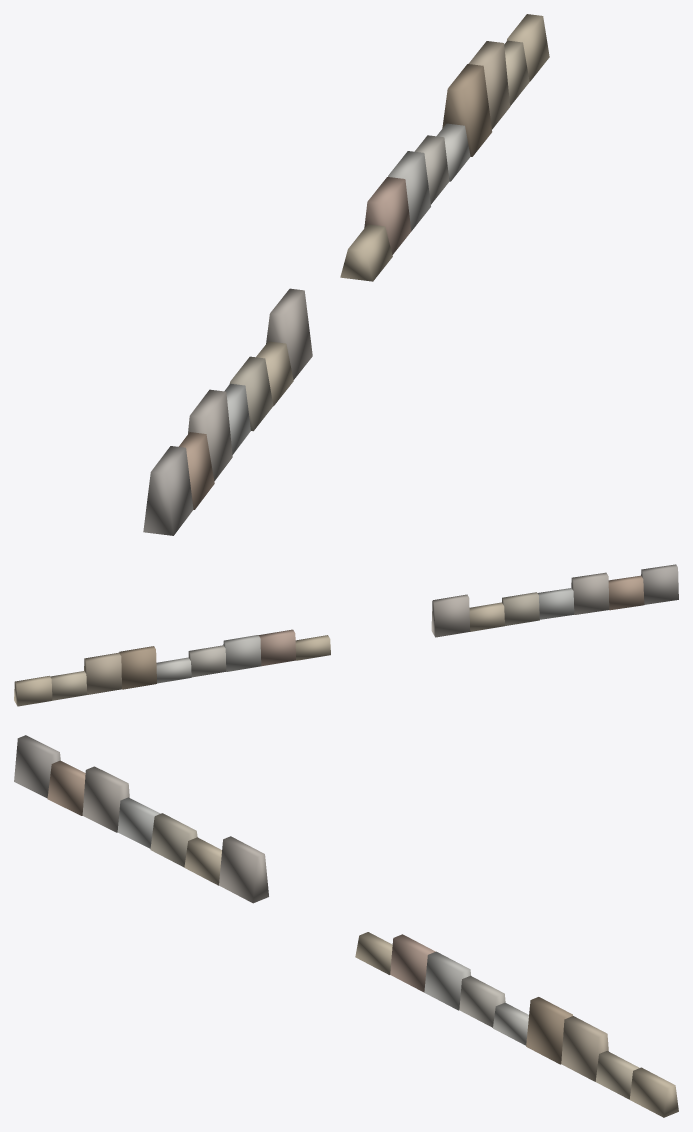
The model's file is farm_19_23_collision.glb.
3 renders of one model, top to bottom at view 1: azimuth 30°, elevation 25°; view 2: azimuth 150°, elevation 25°; view 3: azimuth 270°, elevation 25°, orthographic. The views are drawn at different scales.
Visible parts, largest first — view 1: geometry_0; view 2: geometry_0; view 3: geometry_0.
Boxes of the visible parts, box(x1,y1,x2,y2) form: geometry_0: box(143, 14, 549, 535); geometry_0: box(14, 564, 678, 706); geometry_0: box(14, 735, 678, 1117).
Size of the model in its own units: 21.25 by 3.18 by 20.53.
